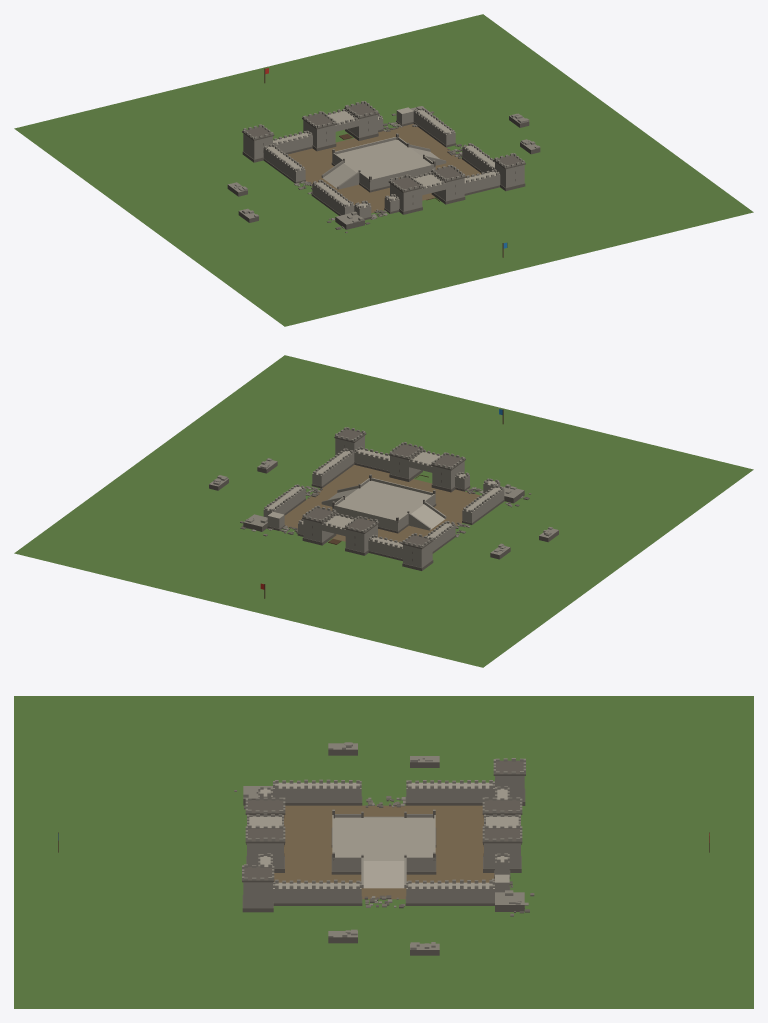
Rendered from battle_fort.glb.
3 views of the same model, one above another, from view 1: azimuth 30°, elevation 25°; view 2: azimuth 150°, elevation 25°; view 3: azimuth 270°, elevation 25° (orthographic). The views are drawn at different scales.
Parts seen in each view (by area): view 1: Fort; view 2: Fort; view 3: Fort.
Part boxes in pixels (x1,y1,x2,y2): Fort: [14, 14, 753, 326]; Fort: [14, 355, 753, 667]; Fort: [14, 696, 753, 1008].
Size of the model in its own units: 200 by 10.4 by 200.
